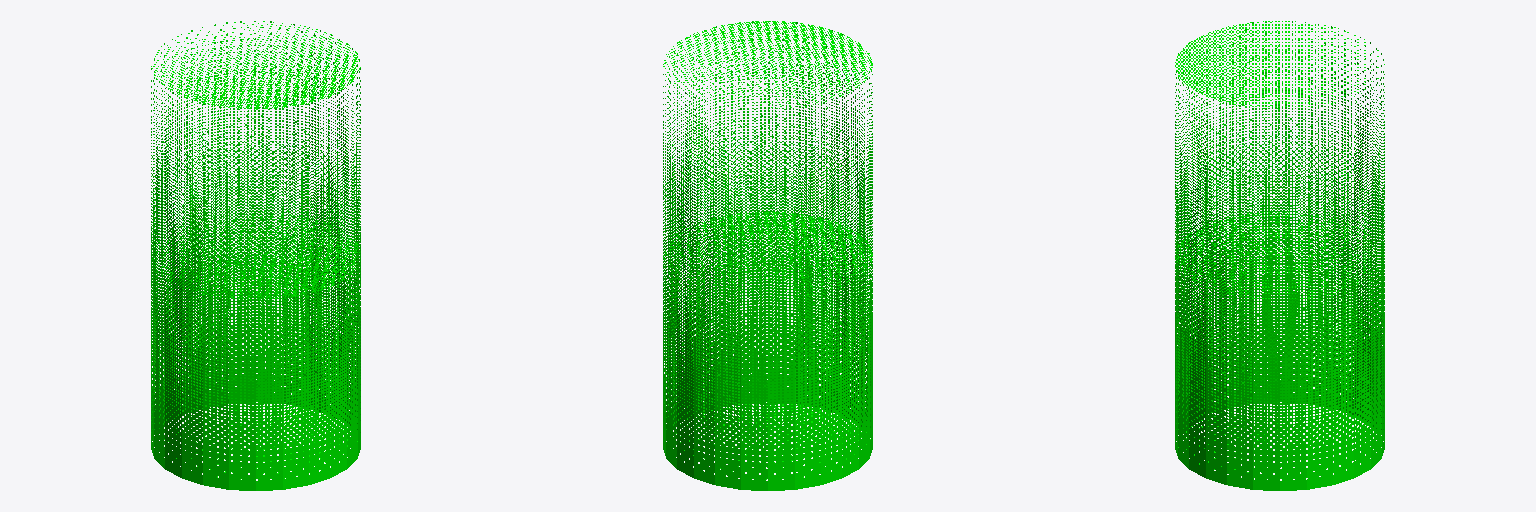
The picture shows the model from 3 angles: view 1: azimuth 30°, elevation 25°; view 2: azimuth 150°, elevation 25°; view 3: azimuth 270°, elevation 25°; orthographic projection.
Parts seen in each view (by area): view 1: entity0_brush1, entity0_brush0; view 2: entity0_brush1, entity0_brush0; view 3: entity0_brush1, entity0_brush0.
Part boxes in pixels (bbox=[...]): entity0_brush1: bbox=[151, 212, 360, 490]; entity0_brush0: bbox=[151, 21, 360, 299]; entity0_brush1: bbox=[663, 212, 872, 490]; entity0_brush0: bbox=[663, 21, 872, 299]; entity0_brush1: bbox=[1175, 212, 1384, 490]; entity0_brush0: bbox=[1175, 21, 1384, 299].
Bounding box in the file's own units: 64 × 128 × 64.
Materials: 1 (1 with a texture image).